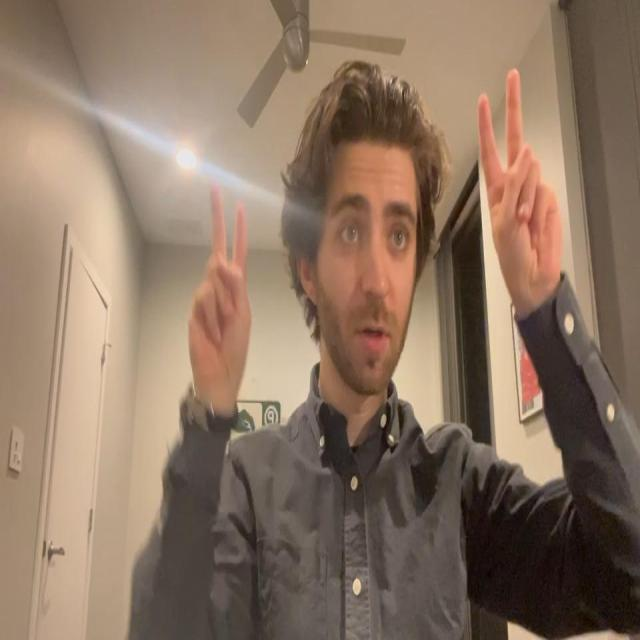face: (318, 156, 419, 394)
